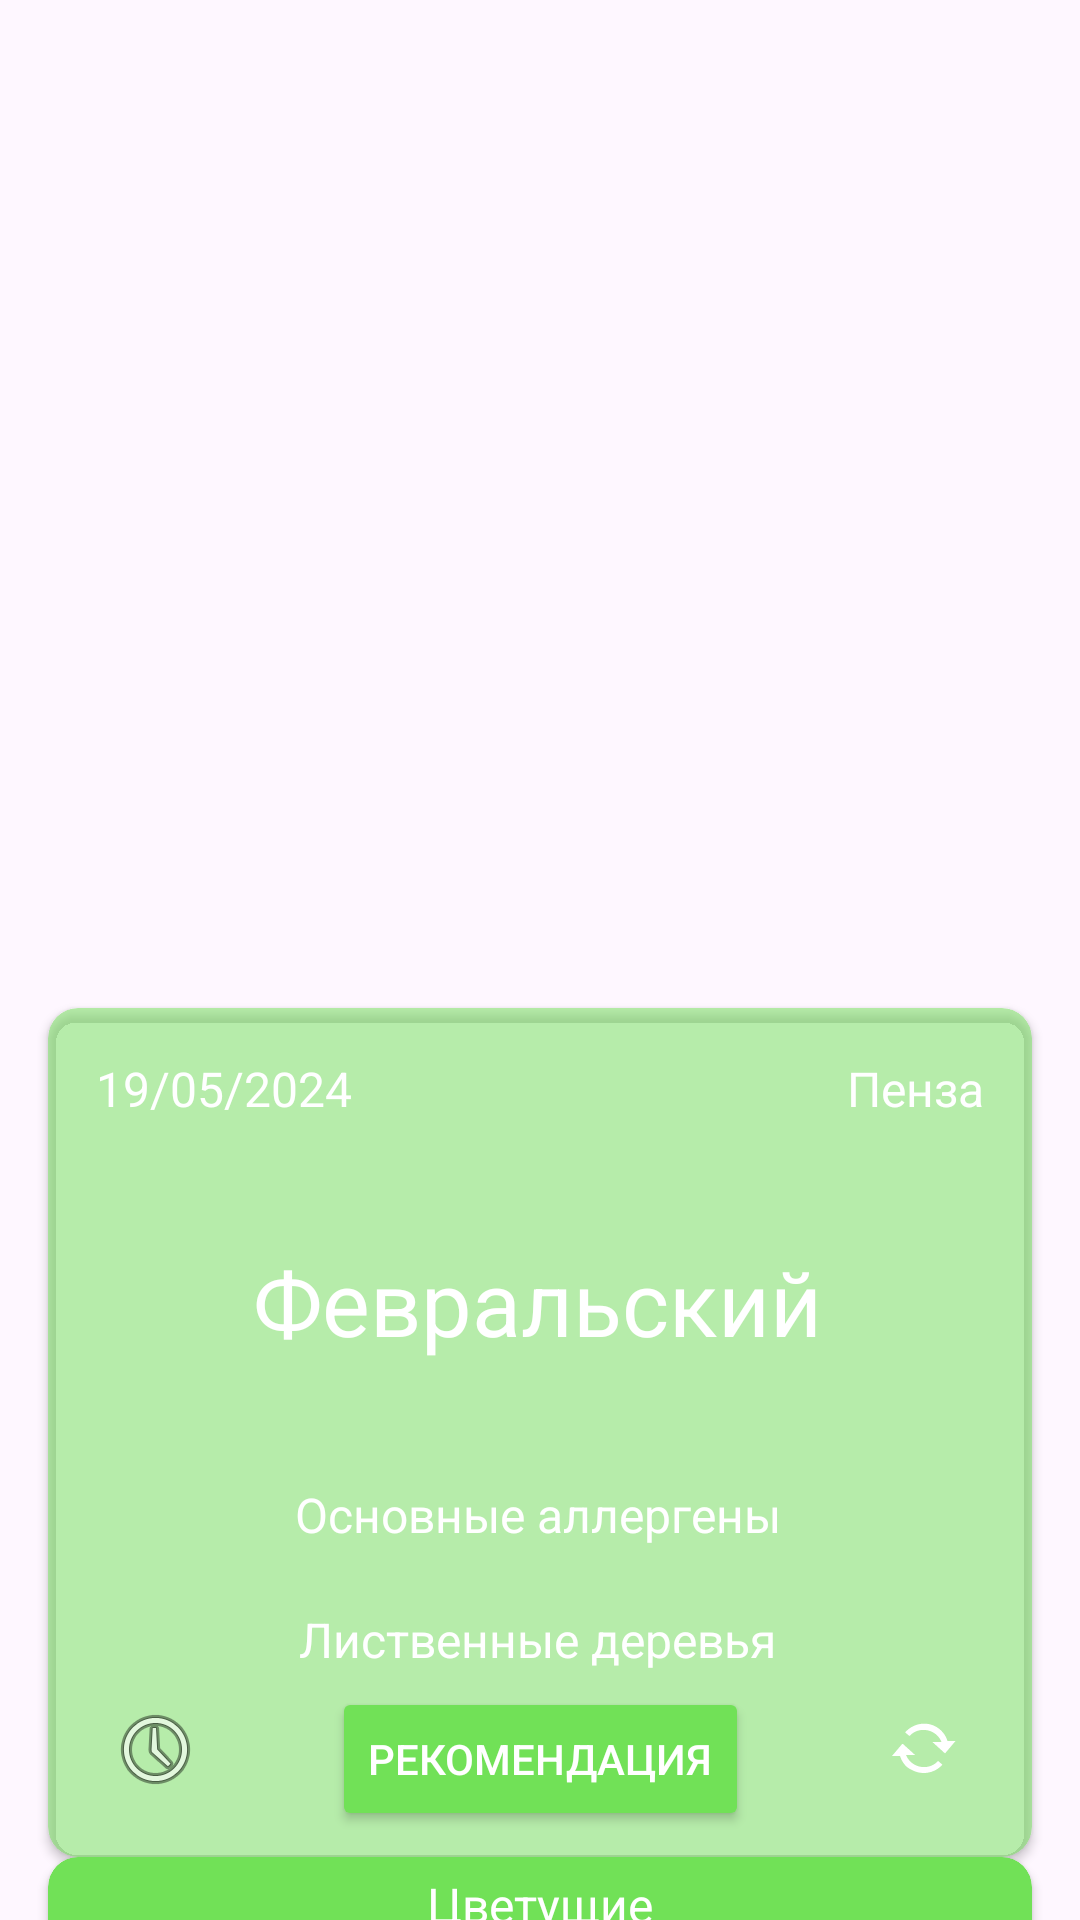

Screen size 1080×1920. Icon name, then its box in pixels as (x1, y1, x2, y2):
recent history: (121, 1715, 190, 1784)
sync: (892, 1724, 955, 1773)
